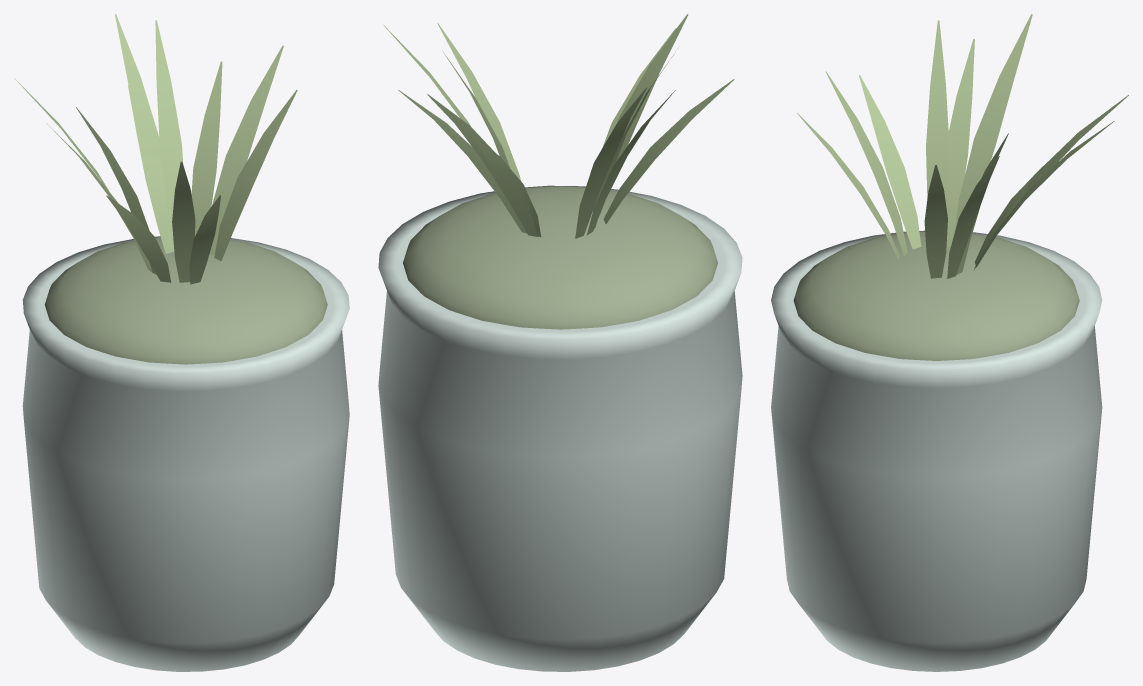
File: sg_planter.glb
3 renders of one model, left to right at view 1: azimuth 30°, elevation 25°; view 2: azimuth 150°, elevation 25°; view 3: azimuth 270°, elevation 25°, orthographic. The views are drawn at different scales.
Parts seen in each view (by area): view 1: pot, moss, blades; view 2: pot, moss, blades; view 3: pot, moss, blades.
Part boxes in pixels (x1,y1,x2,y2): pot: (22,236,349,671); moss: (44,237,327,364); blades: (14,14,297,284); pot: (378,185,742,671); moss: (403,186,717,329); blades: (383,14,734,238); pot: (771,230,1102,671); moss: (793,231,1079,360); blades: (797,14,1128,278).
Bounding box in the file's own units: 0.42 × 0.7662 × 0.4537.
